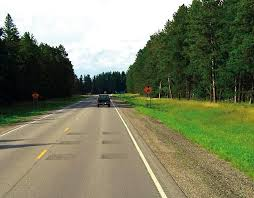stop_sign: (143, 86, 152, 93)
